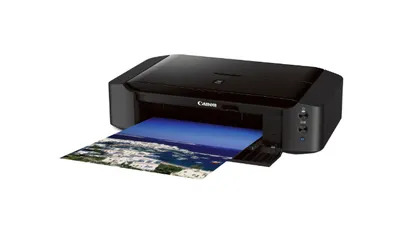printer: (58, 52, 346, 181)
